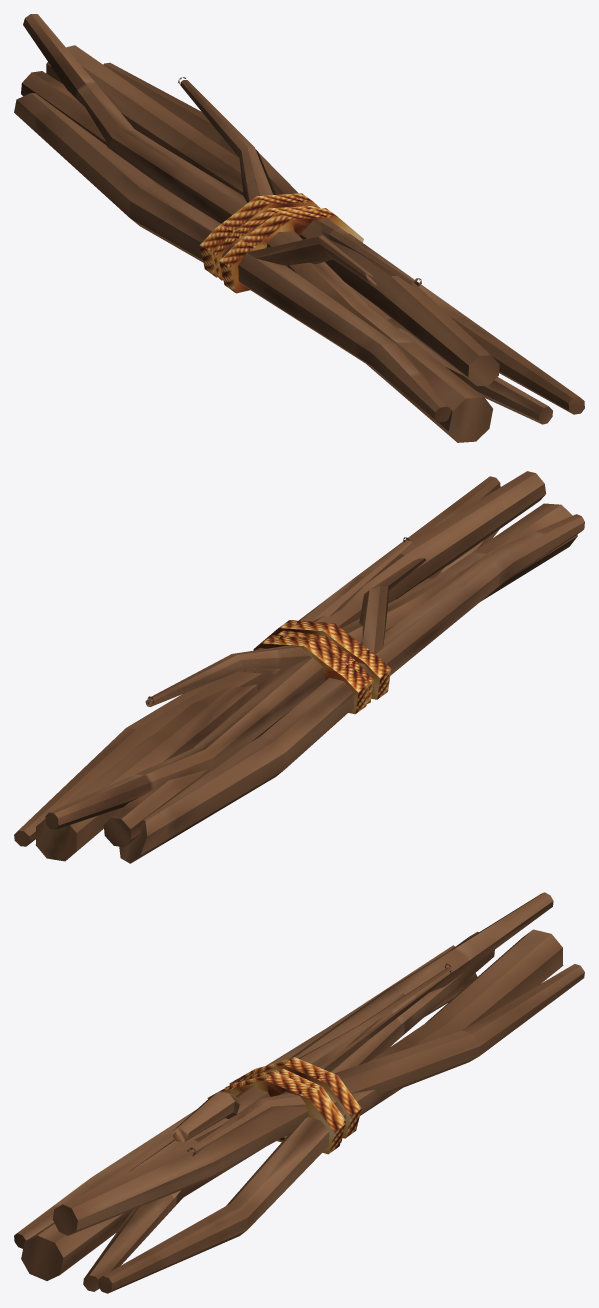
The model's file is DJG_BoundTwigs5.fbx.
3 views of the same model, one above another, from view 1: azimuth 30°, elevation 25°; view 2: azimuth 150°, elevation 25°; view 3: azimuth 330°, elevation 25° (orthographic). The views are drawn at different scales.
Parts seen in each view (by area): view 1: Faggot5; view 2: Faggot5; view 3: Faggot5.
Part boxes in pixels (left/top/right/bottom): Faggot5: left=14, top=14, right=584, bottom=442; Faggot5: left=14, top=471, right=584, bottom=863; Faggot5: left=14, top=892, right=584, bottom=1293.
Bounding box in the file's own units: 0.0662 × 0.0402 × 0.3846.
